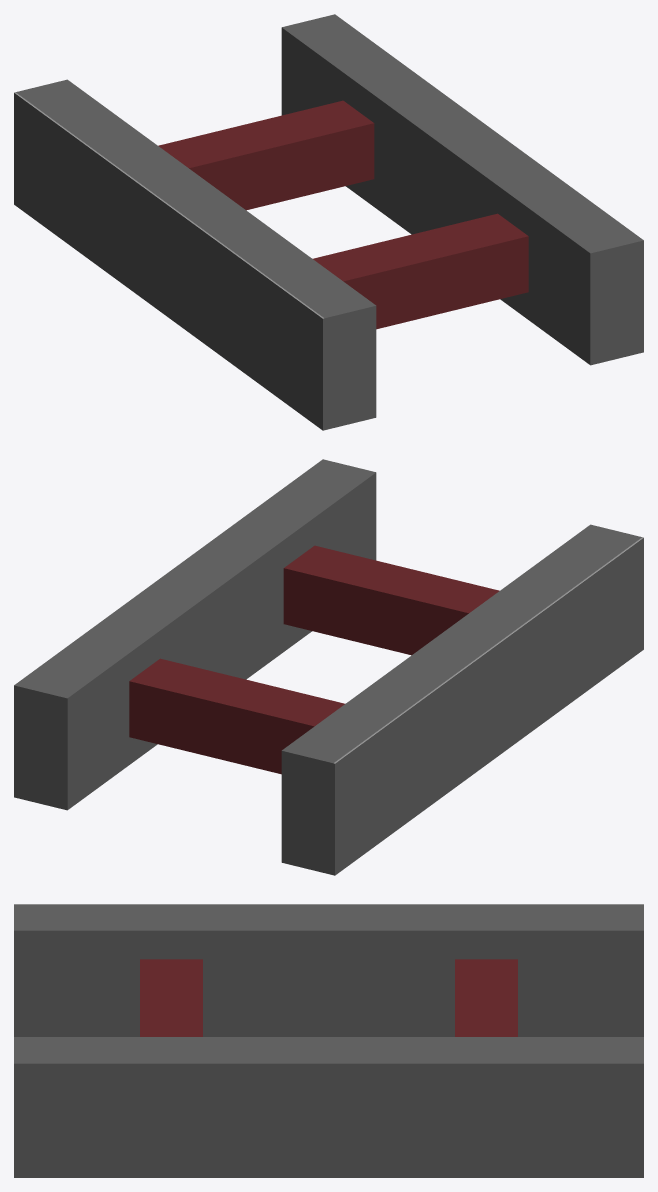
File: rail.obj
The picture shows the model from 3 angles, top to bottom: view 1: azimuth 30°, elevation 25°; view 2: azimuth 150°, elevation 25°; view 3: azimuth 270°, elevation 25°; orthographic projection.
Parts seen in each view (by area): view 1: 立方体.003; view 2: 立方体.003; view 3: 立方体.003.
Boxes of the visible parts, x1,y1,x2,y2 form: 立方体.003: (14,14,643,430); 立方体.003: (14,459,643,875); 立方体.003: (14,904,643,1177).
Size of the model in its own units: 2.4 by 0.8 by 4.
Materials: 1 (1 with a texture image).
